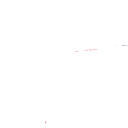crackTip: (68, 40, 128, 57)
